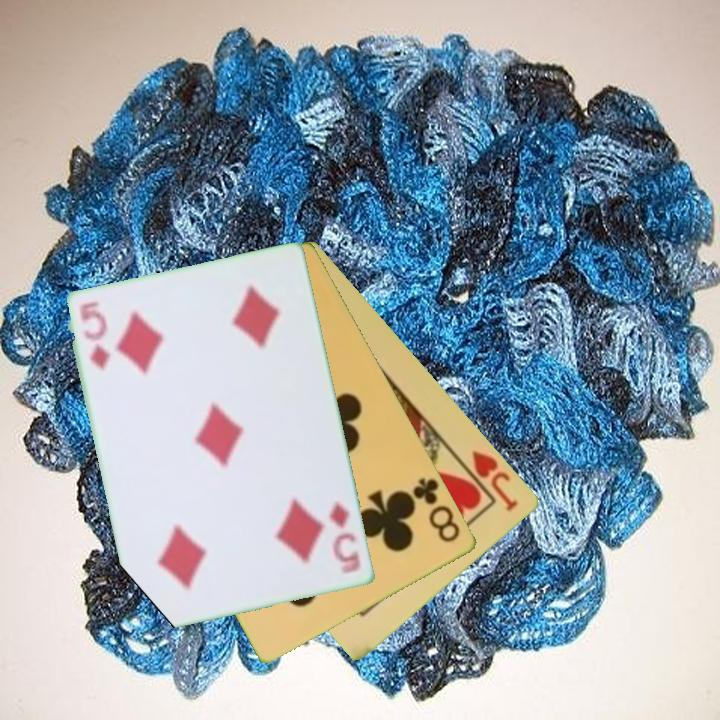5d: (327, 498, 364, 577), (81, 306, 113, 374)
8c: (409, 474, 464, 546)
Jh: (454, 447, 522, 515)
